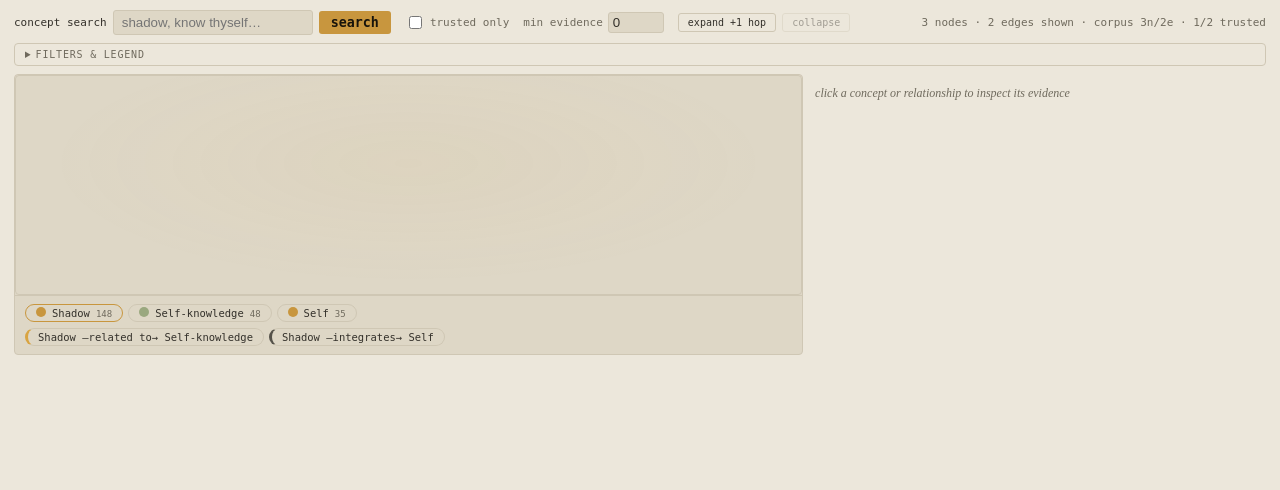
Test: GraphTab › selects a node and shows detail with evidence
Step 1. Click the button with test id "gnode-shadow" → (74, 313), box x1=25 y1=304 x2=123 y2=322
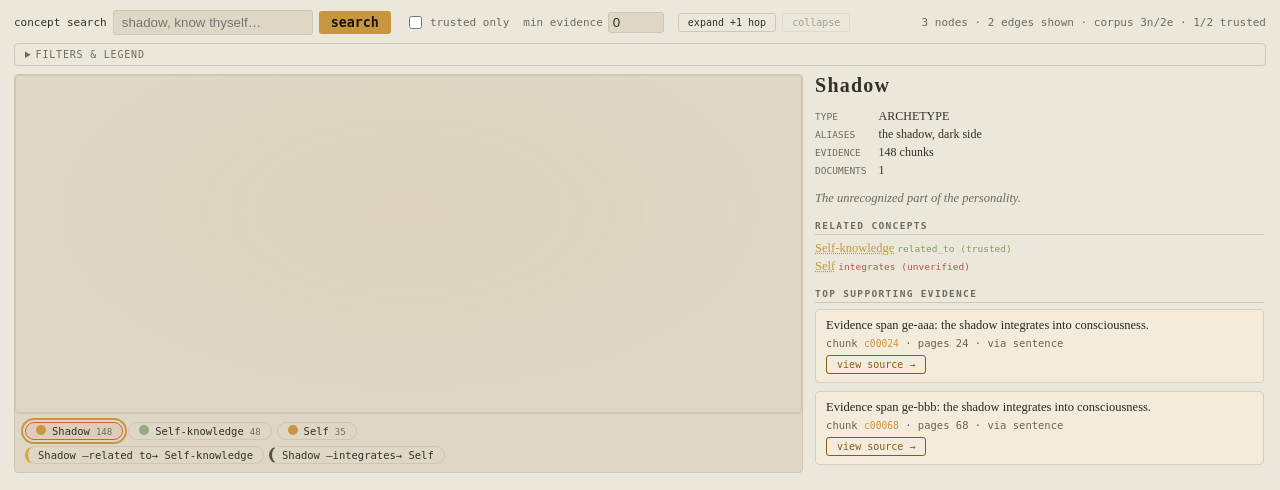
Expected: the element with test id "node-detail" shows "Shadow", x1=815 y1=74 x2=890 y2=96
Expected: the element with test id "node-detail" shows "ARCHETYPE", x1=879 y1=109 x2=949 y2=123
Expected: the button "view source →" below "c00024" is shown, x1=826 y1=354 x2=926 y2=374
